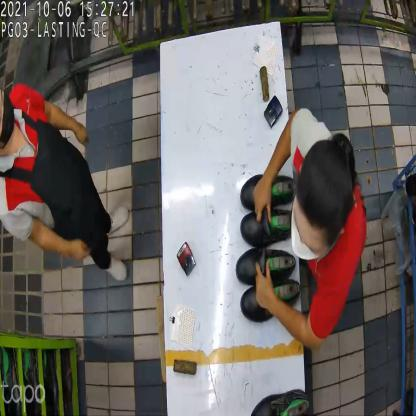shoes: (236, 246, 302, 325), (241, 176, 294, 244)
stamp: (174, 244, 197, 277), (264, 95, 284, 128)
